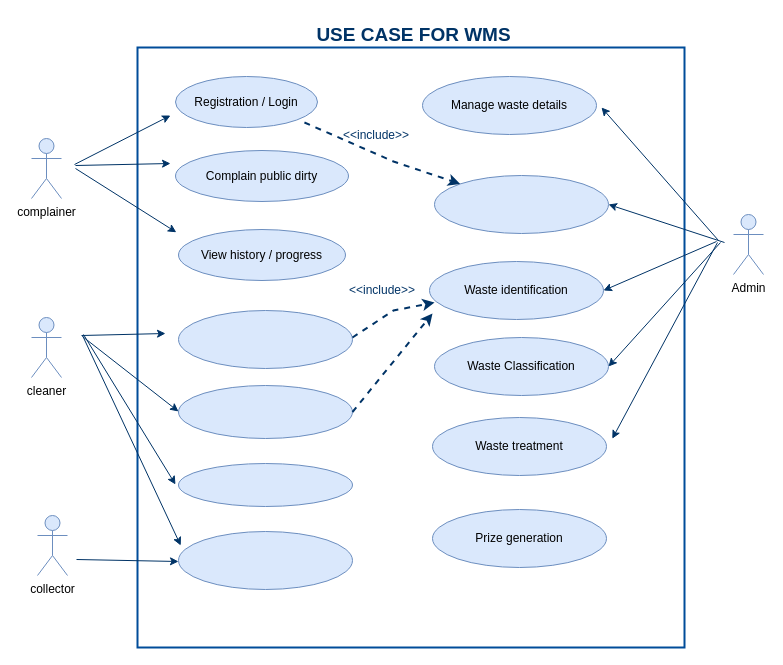
The diagram is 783 pixels wide and 665 high, and some of its shapes have lost their labels. The box of each missing label's shape, as (x1, y1, x2, y2) in pixels:
Clean Trash: (178, 462, 352, 506)
Collect & Transport: (178, 530, 352, 590)
Scan environment for trash: (178, 310, 352, 368)
Store user details: (434, 174, 608, 234)
Upload trash image: (178, 384, 352, 438)
